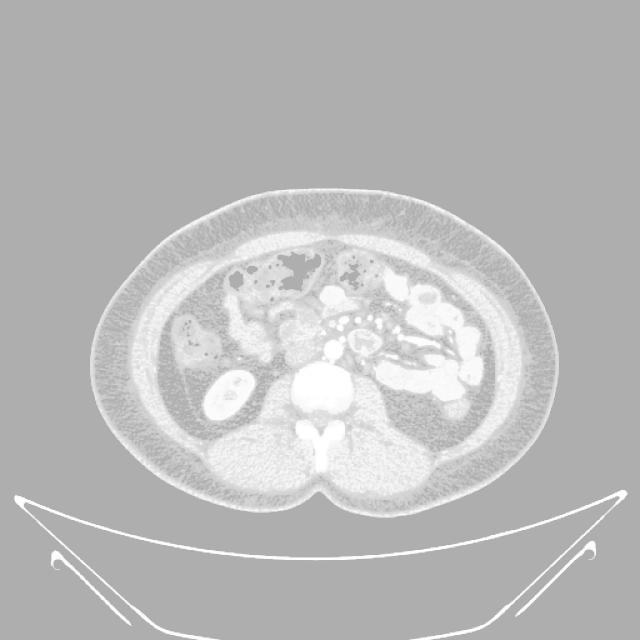NORMAL: (68, 163, 562, 554)
